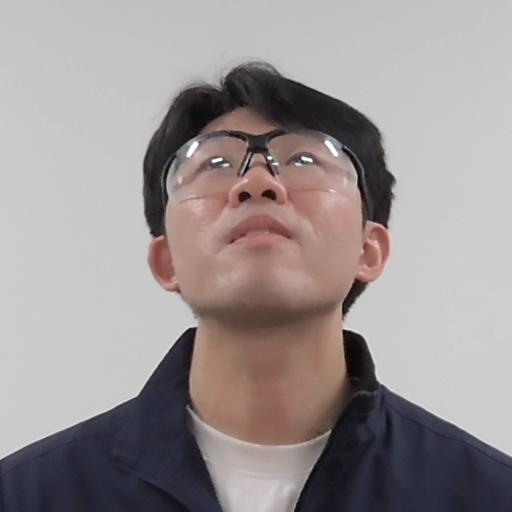glasses: (137, 75, 397, 343)
